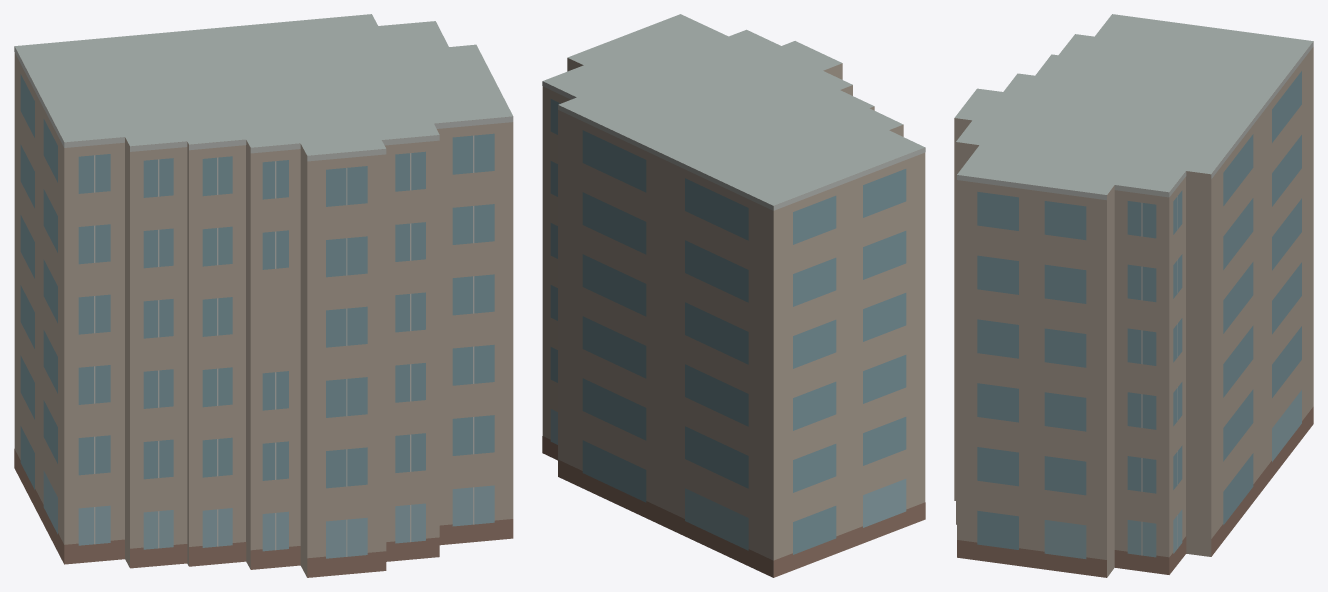
File: survey-upis-32975594.glb
3 renders of one model, left to right at view 1: azimuth 30°, elevation 25°; view 2: azimuth 150°, elevation 25°; view 3: azimuth 270°, elevation 25°, orthographic. The views are drawn at different scales.
Visible parts, largest first — view 1: survey-upis-32975594.tmp; view 2: survey-upis-32975594.tmp; view 3: survey-upis-32975594.tmp.
Part boxes in pixels (bbox=[...]): survey-upis-32975594.tmp: bbox=[14, 14, 513, 577]; survey-upis-32975594.tmp: bbox=[542, 14, 925, 577]; survey-upis-32975594.tmp: bbox=[954, 14, 1313, 577].
Size of the model in its own units: 18.38 by 18.1 by 15.41.
